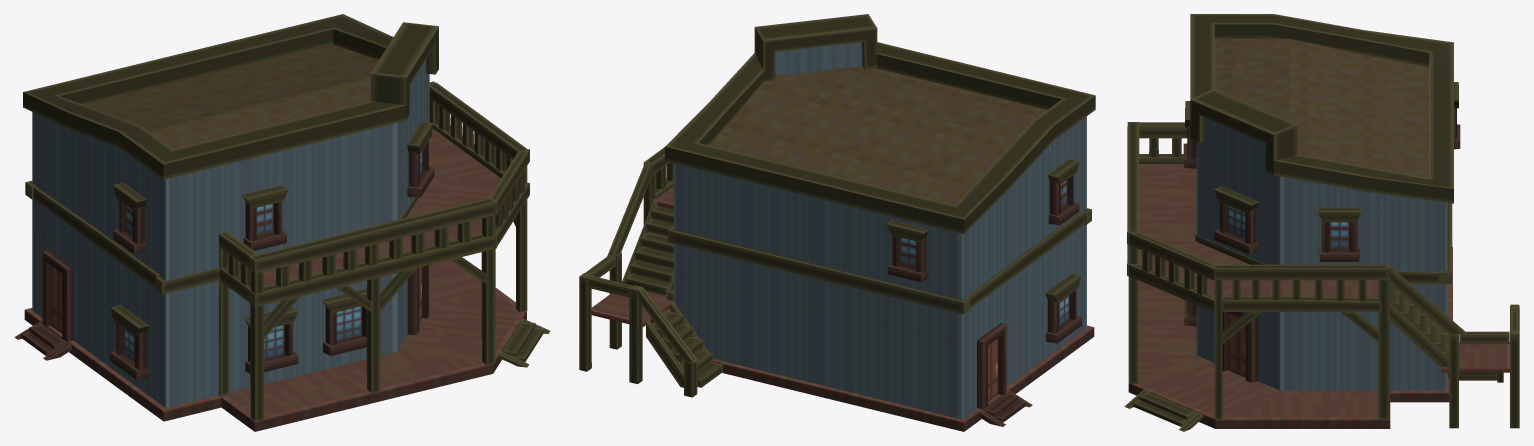
The model's file is house_v2_007.fbx.
The picture shows the model from 3 angles, left to right: view 1: azimuth 30°, elevation 25°; view 2: azimuth 150°, elevation 25°; view 3: azimuth 270°, elevation 25°; orthographic projection. The views are drawn at different scales.
Visible parts, largest first — view 1: house_v2_007; view 2: house_v2_007; view 3: house_v2_007.
Part boxes in pixels (x1,y1,x2,y2): house_v2_007: (14,14,550,431); house_v2_007: (579,14,1095,431); house_v2_007: (1124,14,1519,431).
Size of the model in its own units: 1061 by 708 by 946.
